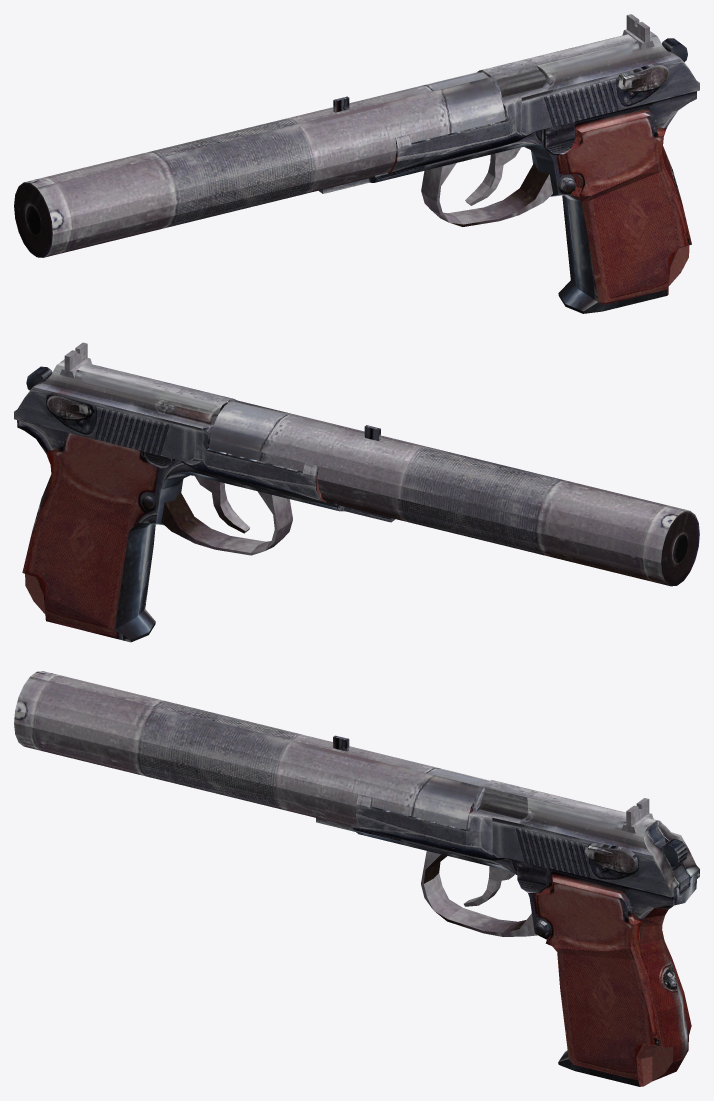
The picture shows the model from 3 angles, top to bottom: view 1: azimuth 30°, elevation 25°; view 2: azimuth 150°, elevation 25°; view 3: azimuth 330°, elevation 25°; orthographic projection.
Visible parts, largest first — view 1: Pb; view 2: Pb; view 3: Pb.
Boxes of the visible parts, box(x1,y1,x2,y2) form: Pb: box(14, 14, 699, 313); Pb: box(14, 342, 699, 642); Pb: box(14, 671, 699, 1086).
Size of the model in its own units: 4.93 by 1.94 by 0.5399.
